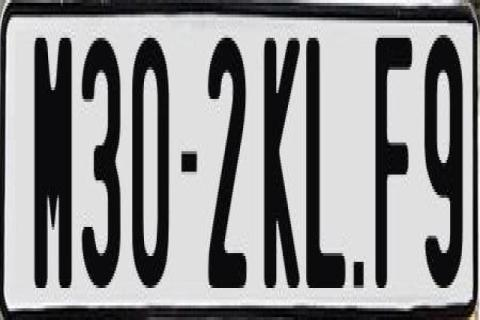0: (82, 35, 126, 297), (422, 32, 464, 294), (209, 29, 249, 279), (131, 35, 169, 285)
F: (374, 38, 410, 302)
K: (262, 32, 298, 288)
L: (305, 38, 349, 306)
M: (31, 38, 73, 294)
